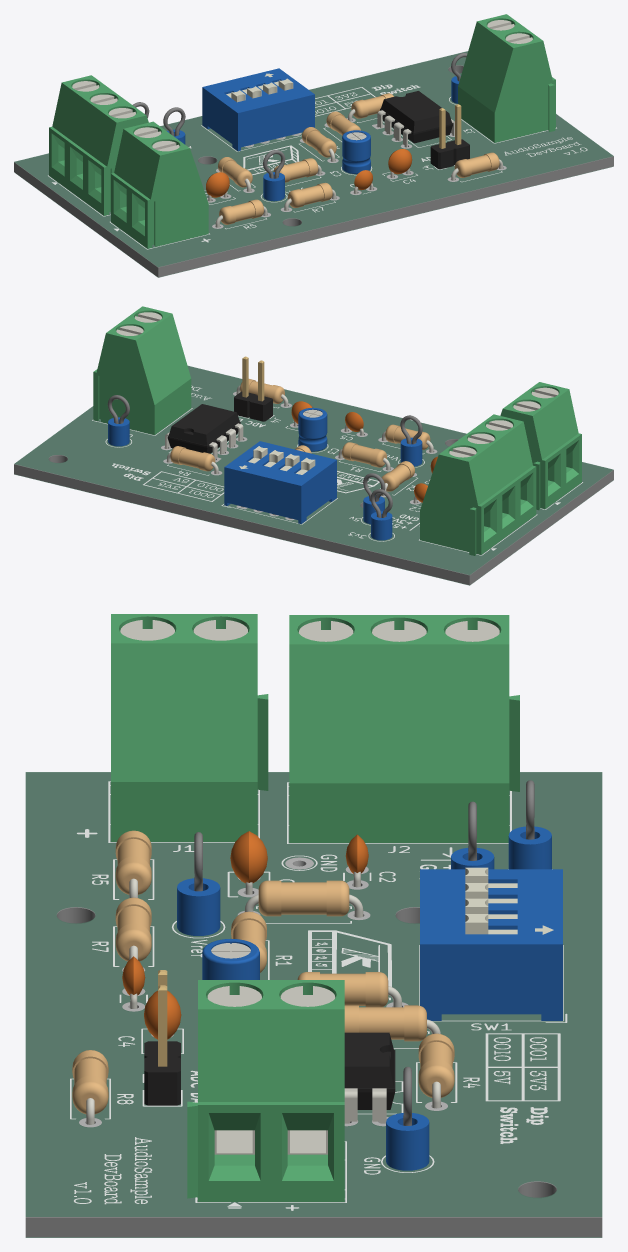
The model's file is PedalDigital.glb.
The picture shows the model from 3 angles, top to bottom: view 1: azimuth 30°, elevation 25°; view 2: azimuth 150°, elevation 25°; view 3: azimuth 270°, elevation 25°; orthographic projection. The views are drawn at different scales.
Parts seen in each view (by area): view 1: =>[0:1:1:16], =>[0:1:1:15], J3, J1, J2, SW1, U1, =>[0:1:1:14], J4, C3, Vref, =>[0:1:1:13] (+11 smaller); view 2: =>[0:1:1:16], =>[0:1:1:15], J2, J3, SW1, J1, U1, =>[0:1:1:14], J4, C3, 3v3, GND (+8 smaller); view 3: =>[0:1:1:16], =>[0:1:1:15], J2, J1, J3, SW1, =>[0:1:1:14], U1, R2, J4, GND, Vref (+13 smaller).
Boxes of the visible parts, <box> form: =>[0:1:1:16]: <box>14,52,613,277</box>; =>[0:1:1:15]: <box>14,51,613,277</box>; J3: <box>458,14,555,142</box>; J1: <box>111,121,208,248</box>; J2: <box>49,75,148,215</box>; SW1: <box>202,68,314,151</box>; U1: <box>377,91,454,147</box>; =>[0:1:1:14]: <box>48,84,587,249</box>; J4: <box>430,104,469,169</box>; C3: <box>342,130,370,174</box>; Vref: <box>263,150,285,201</box>; =>[0:1:1:13]: <box>207,118,506,228</box>; =>[0:1:1:16]: <box>14,366,613,585</box>; =>[0:1:1:15]: <box>14,365,613,585</box>; J2: <box>420,414,536,555</box>; J3: <box>93,306,191,434</box>; SW1: <box>224,441,336,523</box>; J1: <box>500,382,581,510</box>; U1: <box>165,404,243,460</box>; =>[0:1:1:14]: <box>92,385,582,555</box>; J4: <box>234,356,272,421</box>; C3: <box>298,407,327,451</box>; 3v3: <box>370,489,392,540</box>; GND: <box>107,395,129,446</box>; =>[0:1:1:16]: <box>25,773,602,1237</box>; =>[0:1:1:15]: <box>25,772,602,1237</box>; J2: <box>289,615,519,842</box>; J1: <box>111,614,268,841</box>; J3: <box>187,980,344,1201</box>; SW1: <box>420,867,562,1020</box>; =>[0:1:1:14]: <box>70,781,567,1210</box>; U1: <box>344,1032,395,1123</box>; R2: <box>244,880,363,917</box>; J4: <box>144,970,180,1105</box>; GND: <box>386,1066,429,1170</box>; Vref: <box>177,832,220,935</box>.
Bounding box in the file's own units: 0.073 × 0.0173 × 0.04.
